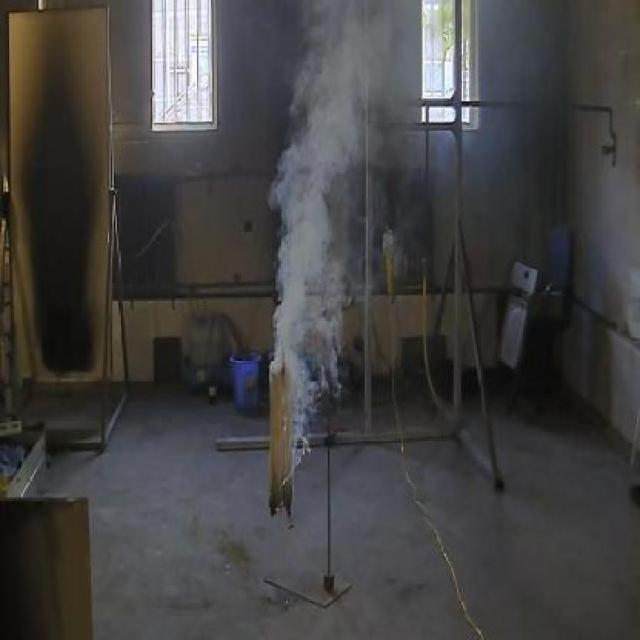fire: (263, 1, 402, 348)
